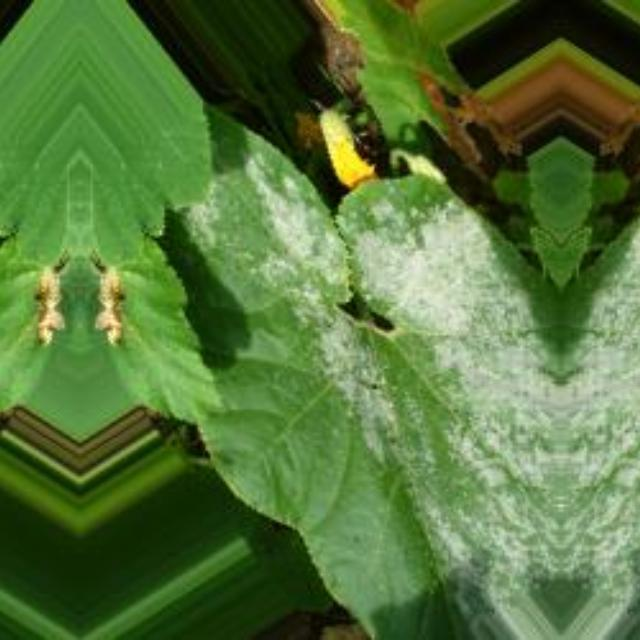Powdery_mildew: (422, 346, 556, 578), (177, 151, 346, 307), (353, 197, 527, 333), (565, 345, 640, 578), (299, 318, 401, 460), (594, 197, 640, 333)
